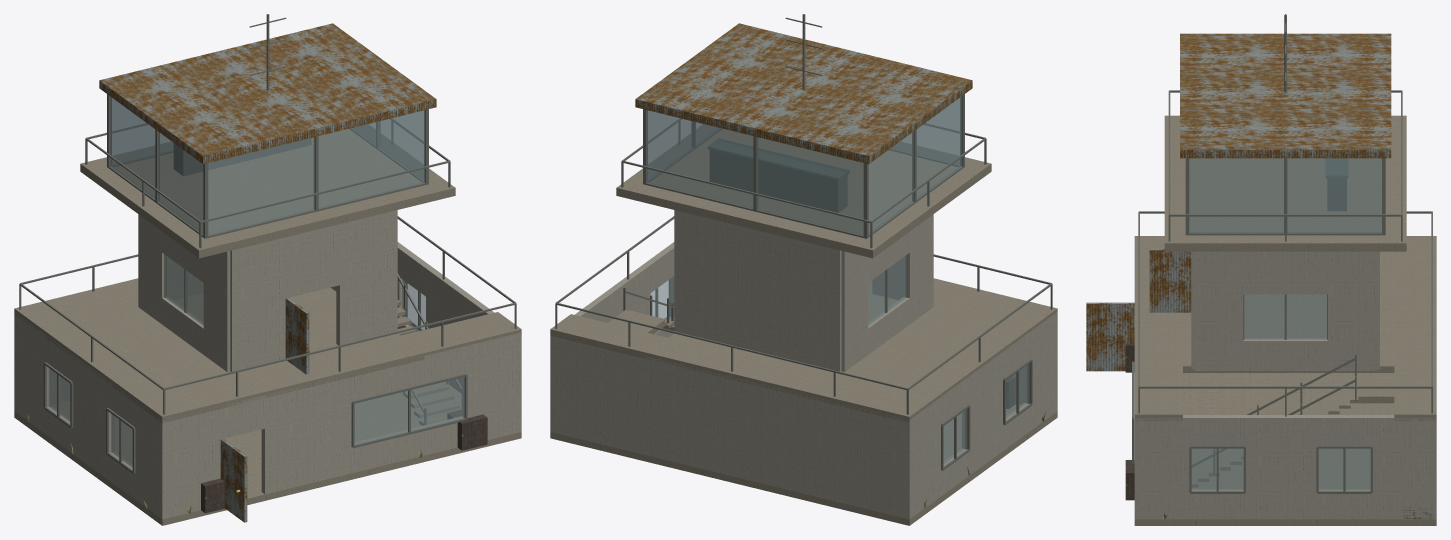
File: control_tower.glb
3 renders of one model, left to right at view 1: azimuth 30°, elevation 25°; view 2: azimuth 150°, elevation 25°; view 3: azimuth 270°, elevation 25°, orthographic.
Visible parts, largest first — view 1: Cabin_roof_separate, Observation_deck_floor, Floor_upper_main_walkable, Cabin_glass_end_-3.25, Front_wall_section_1, Floor_ground_walkable, Tower_upper_door_pier_2.1, Tower_upper_door_pier_-2.1, Cabin_glass_side_-4.3, Front_wall_section_0, Front_wall_section_2, Window_glass_separate (+35 smaller); view 2: Wall_ground_rear, Cabin_roof_separate, Floor_upper_main_walkable, Tower_shaft_rear_wall, Observation_deck_floor, Cabin_glass_end_3.25, Cabin_glass_side_-4.3, Control_cabin_console_separate, Floor_ground_walkable, Cabin_window_frames_separate, Ground_left_wall_section_1, Ground_left_wall_section_2 (+26 smaller); view 3: Cabin_roof_separate, Observation_deck_floor, Floor_upper_main_walkable, Cabin_glass_side_4.3, Floor_ground_walkable, Ground_right_wall_section_1, Ground_right_wall_section_2, Tower_shaft_side_pier_3.2_-2.2, Tower_shaft_side_pier_3.2_2.2, Ground_right_wall_section_0, Tower_shaft_window_3.2_separate, Tower_shaft_side_header_3.2 (+22 smaller).
Part boxes in pixels (x1,y1,x2,y2): Cabin_roof_separate: (99, 23, 436, 164); Observation_deck_floor: (80, 125, 455, 258); Floor_upper_main_walkable: (14, 278, 424, 423); Cabin_glass_end_-3.25: (208, 110, 424, 235); Front_wall_section_1: (261, 376, 352, 494); Floor_ground_walkable: (14, 382, 521, 525); Tower_upper_door_pier_2.1: (336, 210, 396, 345); Tower_upper_door_pier_-2.1: (230, 236, 288, 371); Cabin_glass_side_-4.3: (110, 96, 203, 234); Front_wall_section_0: (159, 407, 223, 519); Front_wall_section_2: (462, 332, 521, 439); Window_glass_separate: (354, 377, 464, 444); Wall_ground_rear: (550, 336, 909, 519); Cabin_roof_separate: (635, 23, 972, 164); Floor_upper_main_walkable: (647, 278, 1057, 422); Tower_shaft_rear_wall: (675, 210, 841, 371); Observation_deck_floor: (616, 125, 991, 258); Cabin_glass_end_3.25: (647, 110, 863, 235); Cabin_glass_side_-4.3: (868, 96, 961, 234); Control_cabin_console_separate: (710, 150, 847, 212); Floor_ground_walkable: (550, 404, 1057, 525); Cabin_window_frames_separate: (643, 94, 964, 238); Ground_left_wall_section_1: (962, 351, 1003, 476); Ground_left_wall_section_2: (903, 397, 941, 519); Cabin_roof_separate: (1180, 33, 1391, 158); Observation_deck_floor: (1164, 115, 1406, 251); Floor_upper_main_walkable: (1134, 236, 1436, 372); Cabin_glass_side_4.3: (1189, 158, 1381, 232); Floor_ground_walkable: (1134, 373, 1436, 525); Ground_right_wall_section_1: (1245, 415, 1317, 519); Ground_right_wall_section_2: (1371, 415, 1436, 519); Tower_shaft_side_pier_3.2_-2.2: (1195, 251, 1243, 370); Tower_shaft_side_pier_3.2_2.2: (1328, 251, 1376, 370); Ground_right_wall_section_0: (1134, 415, 1190, 519); Tower_shaft_window_3.2_separate: (1244, 294, 1326, 339); Tower_shaft_side_header_3.2: (1243, 251, 1327, 294).
Bounding box in the file's own units: 14.25 × 15.39 × 11.6.
9 materials, 4 textured.
